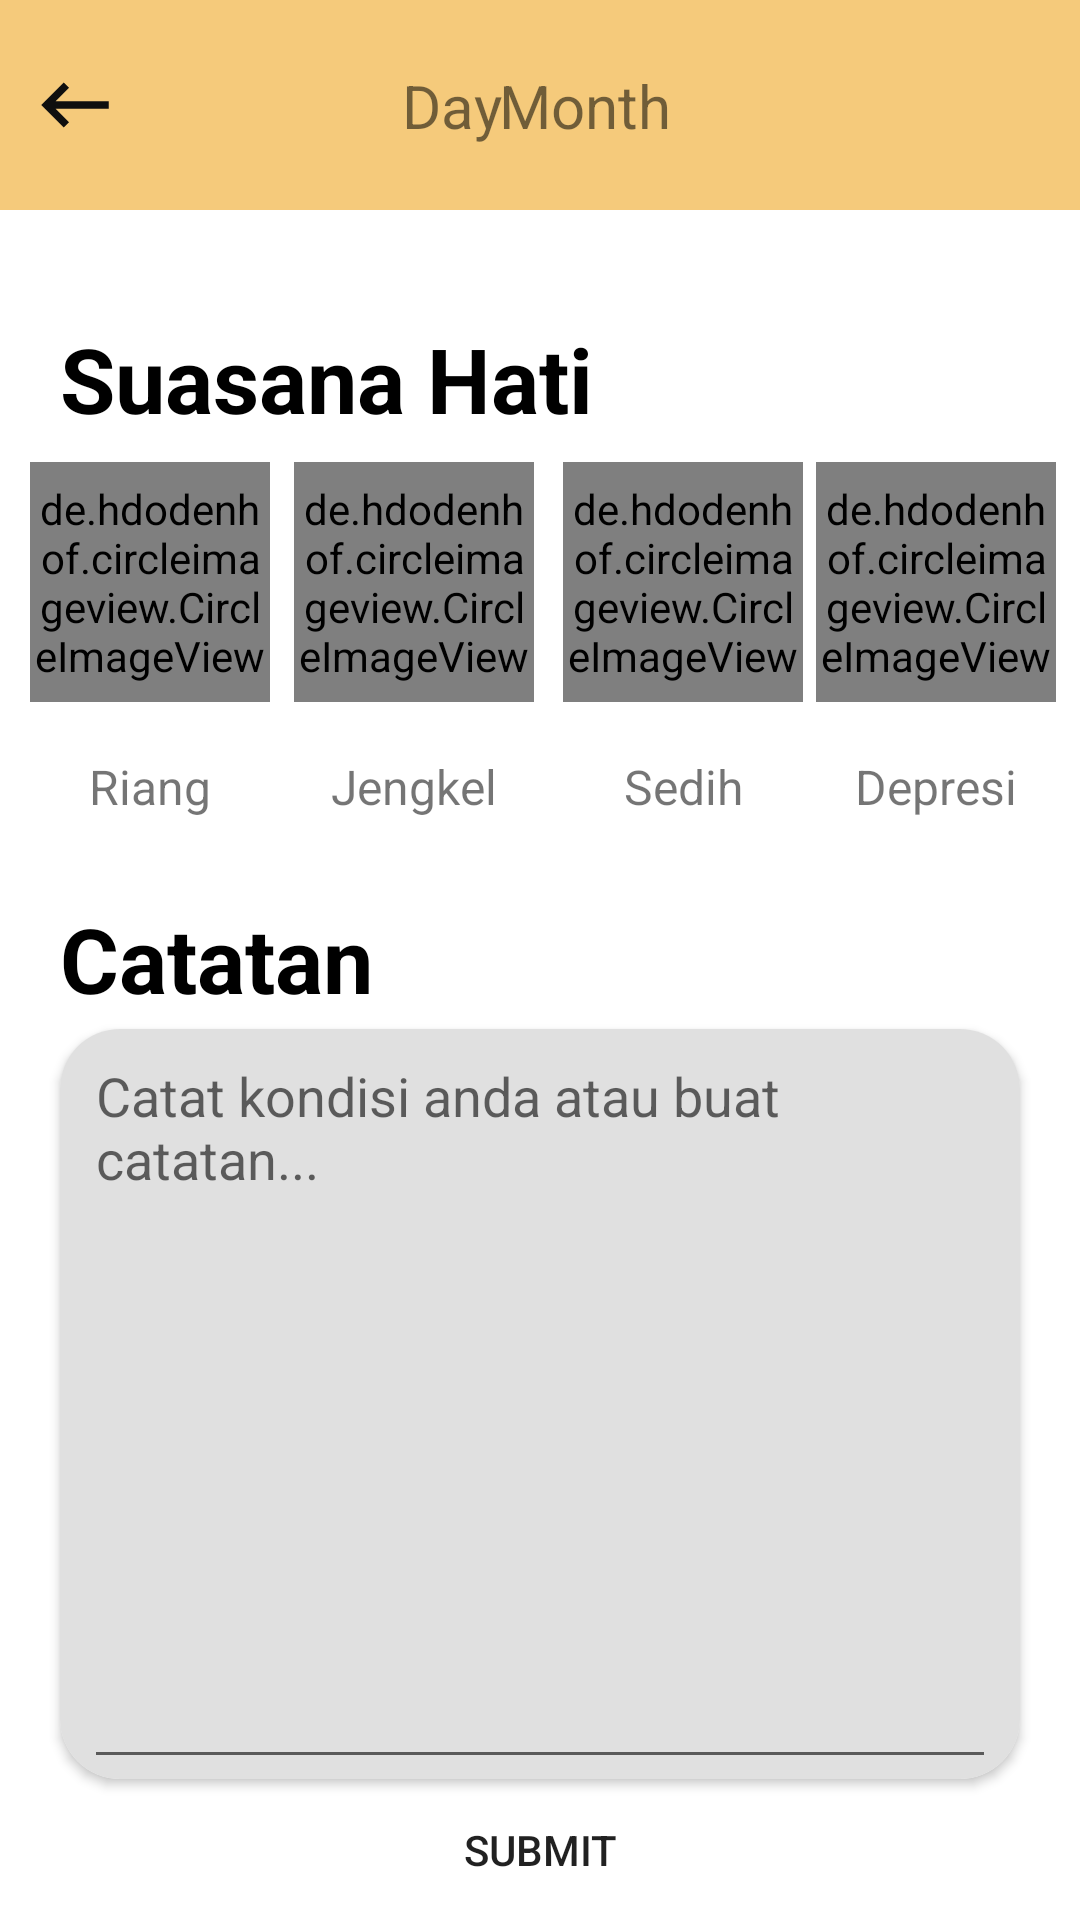

Locate icon controls on the screen. Image size 1080w x 1920h, boxes as Rect(x1, y1, x2, y2).
back: Rect(41, 82, 109, 128)
